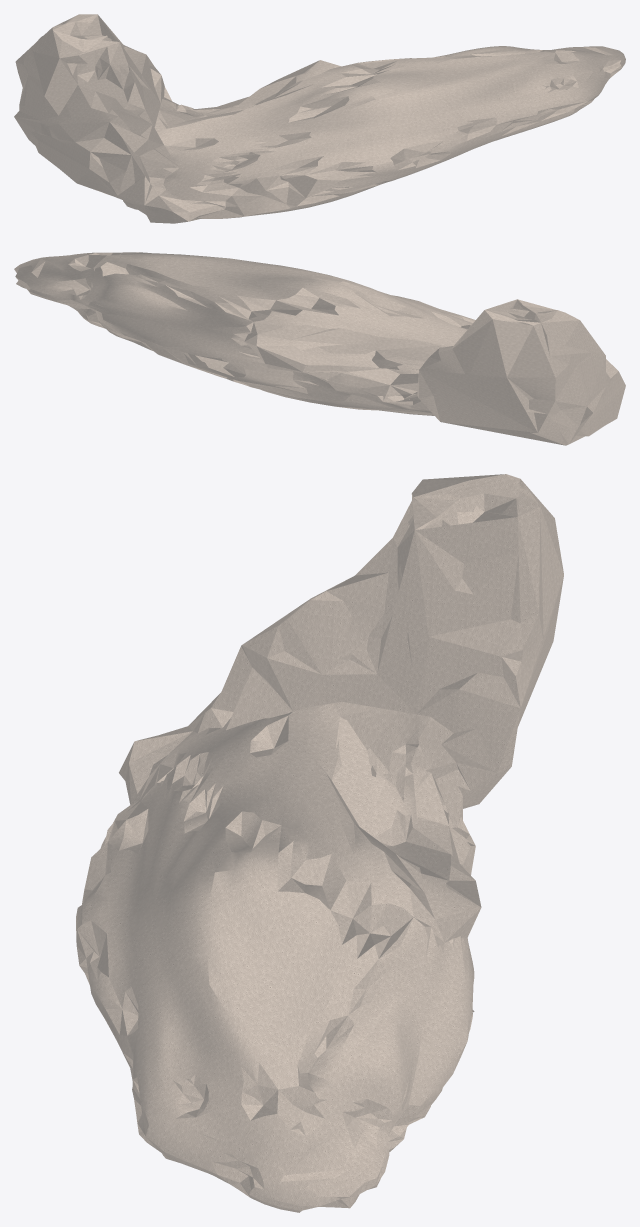
Rendered from Bacu Tex.glb.
3 renders of one model, top to bottom at view 1: azimuth 30°, elevation 25°; view 2: azimuth 150°, elevation 25°; view 3: azimuth 270°, elevation 25°, orthographic. The views are drawn at different scales.
Visible parts, largest first — view 1: Group1; view 2: Group1; view 3: Group1.
Boxes of the visible parts, x1=… form: Group1: x1=14, y1=14, x2=625, y2=223; Group1: x1=14, y1=252, x2=625, y2=445; Group1: x1=76, y1=474, x2=563, y2=1212.
Size of the model in its own units: 2.25 by 0.6155 by 0.8449.
20 materials, 19 textured.
